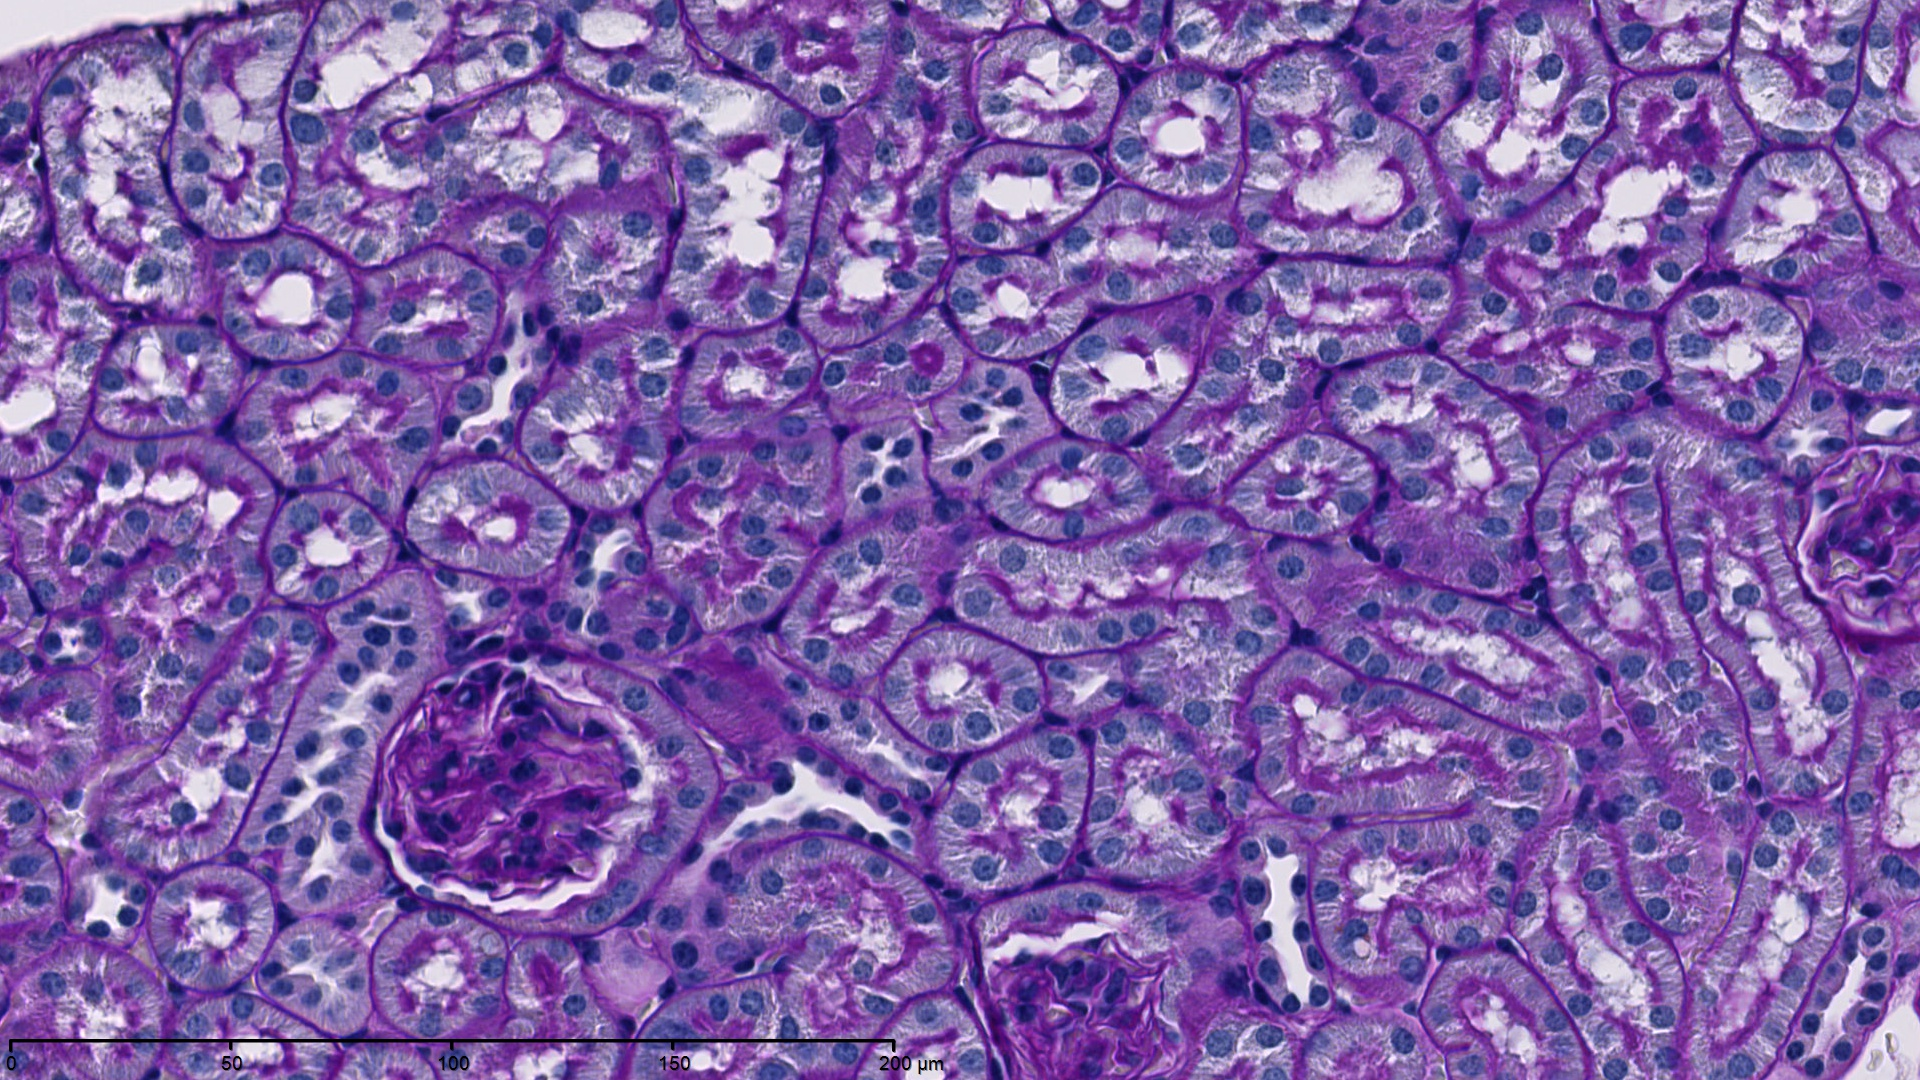Glomeruli: (356, 658, 680, 903), (980, 934, 1178, 1080), (1796, 444, 1920, 630)
